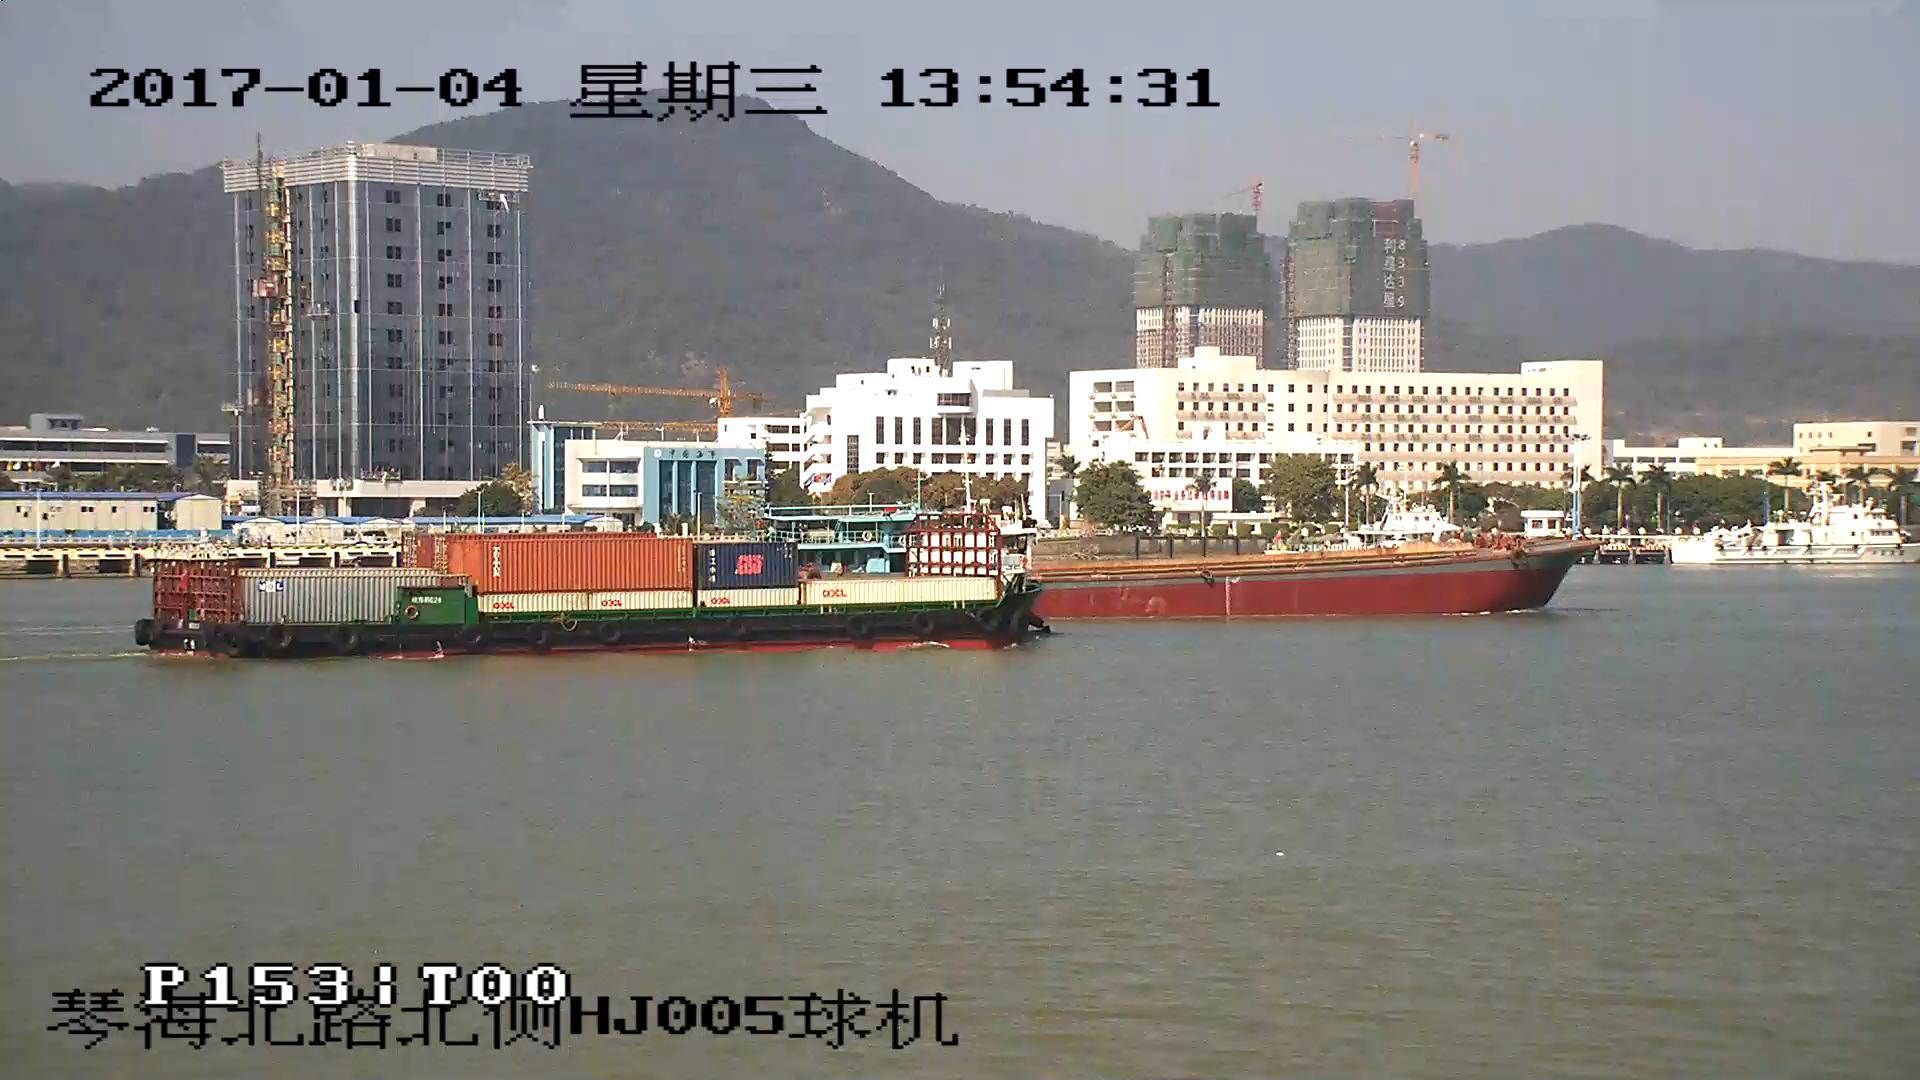bulk cargo carrier: (1049, 536, 1609, 621)
container ship: (137, 524, 1049, 655)
